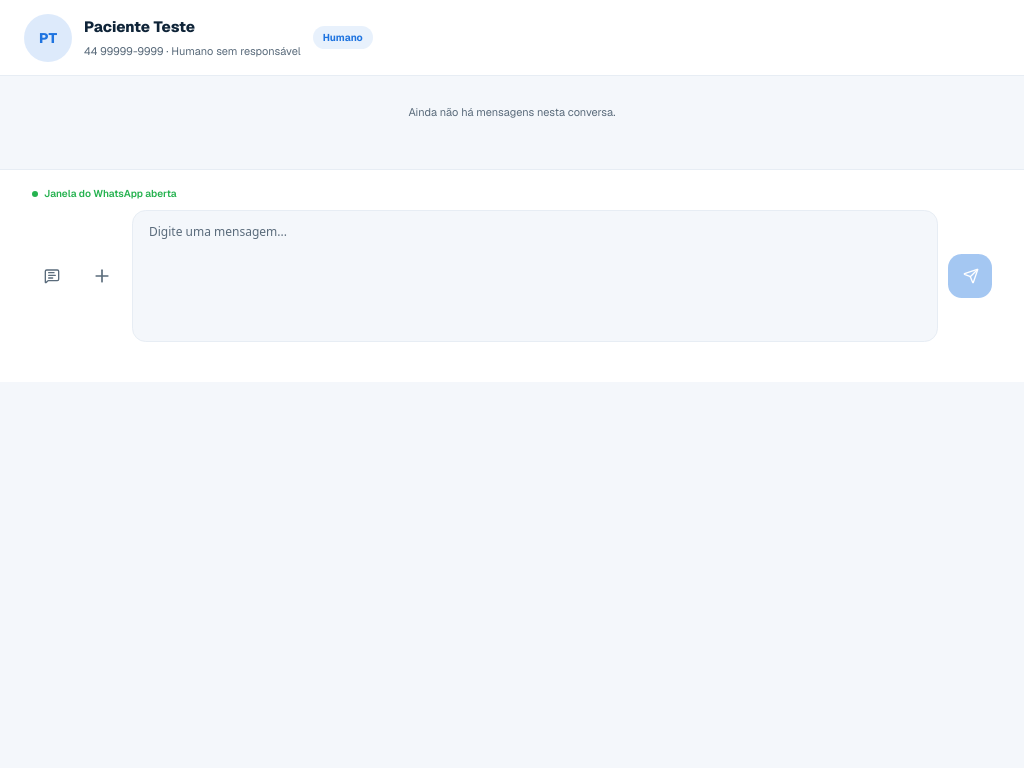
Scenario: ChatWindow › should_navigate_quick_messages_with_arrows_and_select_the_active_option
(page scrolled)
Click the button named "Mensagens rápidas" at (52, 276), box top-left (32, 256), bottom-right (72, 296)
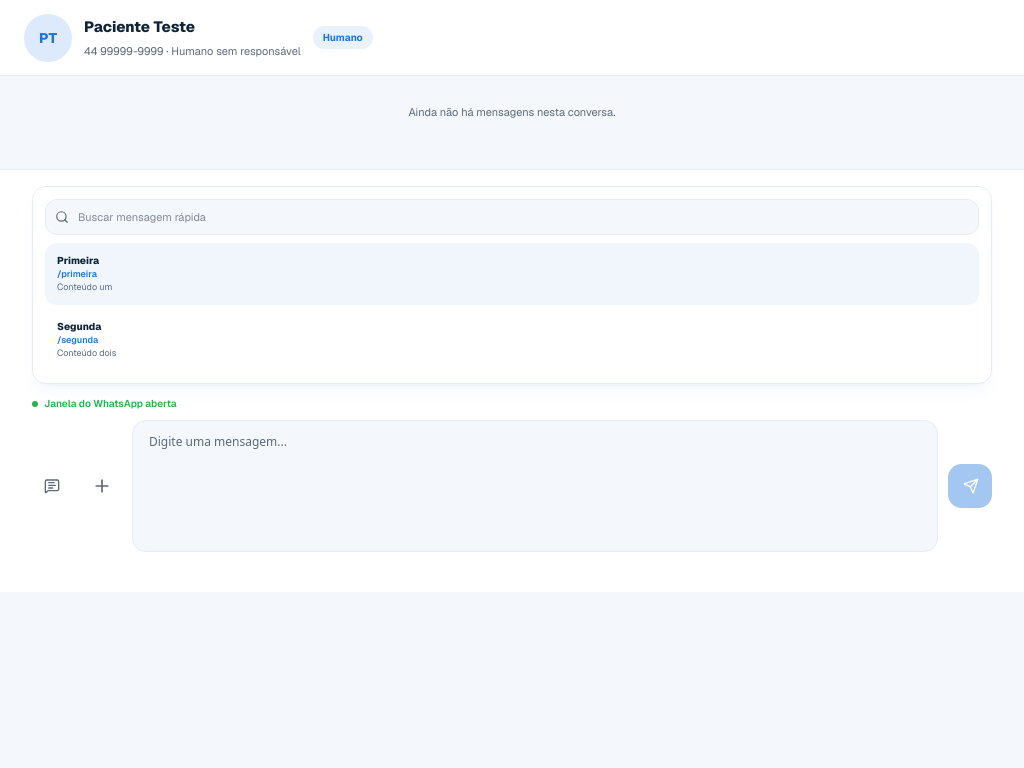
Press ArrowDown in the dropdown named "Buscar mensagens rápidas", box top-left (45, 198), bottom-right (979, 234)
Press Enter in the dropdown named "Buscar mensagens rápidas", box top-left (45, 198), bottom-right (979, 234)
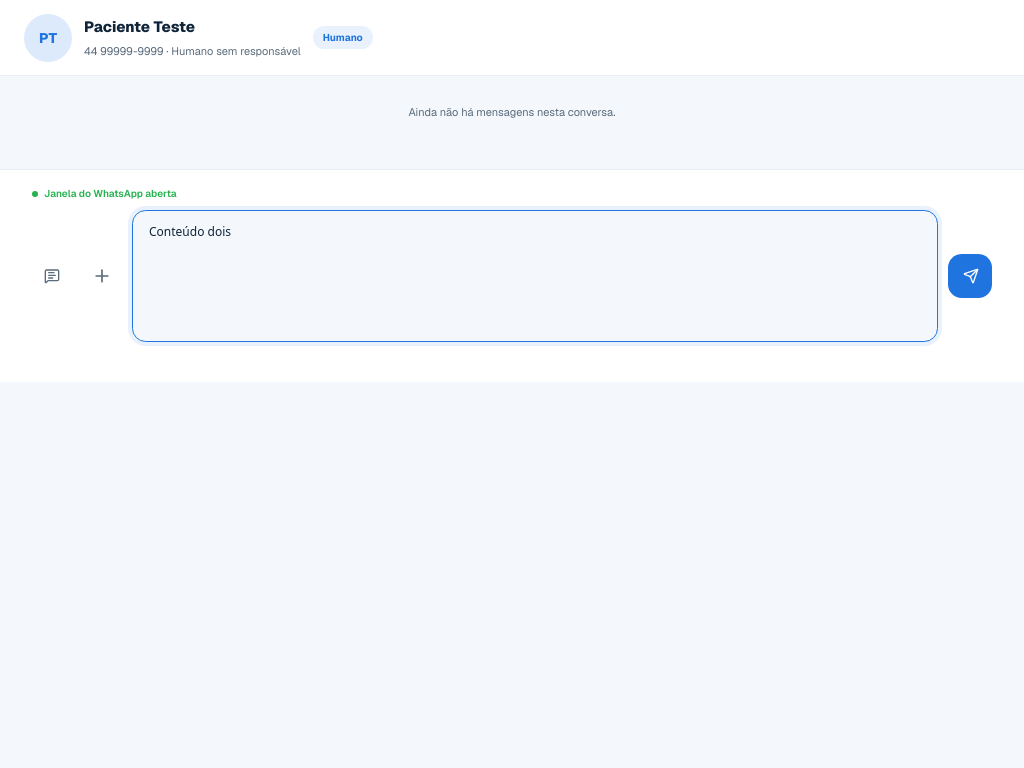
Now the text box with placeholder "Digite uma mensagem..." holds "Conteúdo dois", box top-left (132, 210), bottom-right (938, 342)
